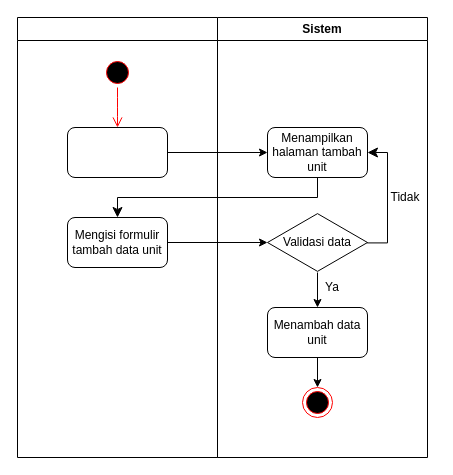
Image size: 453x475. Some labels were removed from this diagram. Each missing label, with the box of its shape:
Membuka halaman unit: (66, 126, 168, 178)
User: (16, 16, 218, 458)
